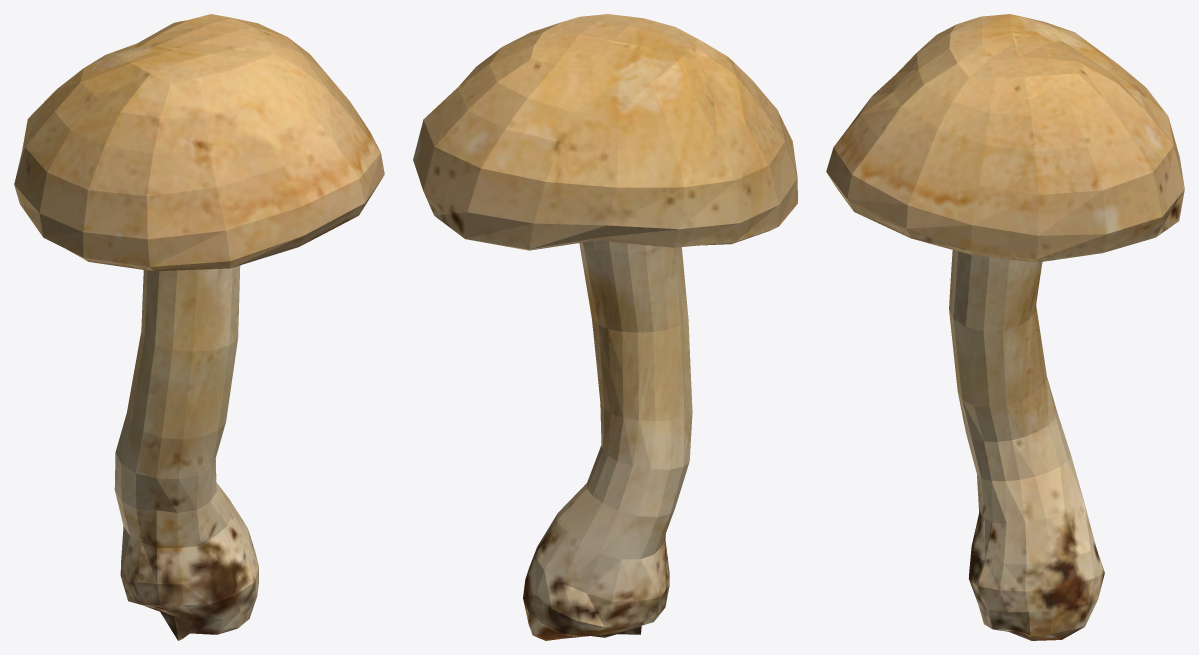
Rendered from P_Pinggu_01.obj.
The picture shows the model from 3 angles, left to right: view 1: azimuth 30°, elevation 25°; view 2: azimuth 150°, elevation 25°; view 3: azimuth 270°, elevation 25°; orthographic projection. The views are drawn at different scales.
Bounding box in the file's own units: 0.2075 × 0.3642 × 0.2049.
1 material, 1 textured.
